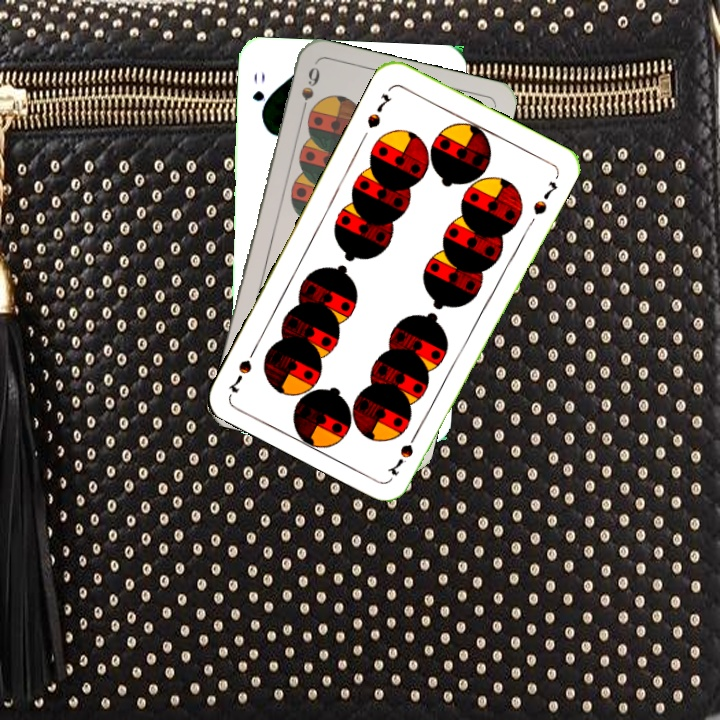GO: (248, 69, 271, 121)
S7: (384, 425, 422, 478), (363, 89, 395, 131)
S9: (296, 63, 323, 121)
